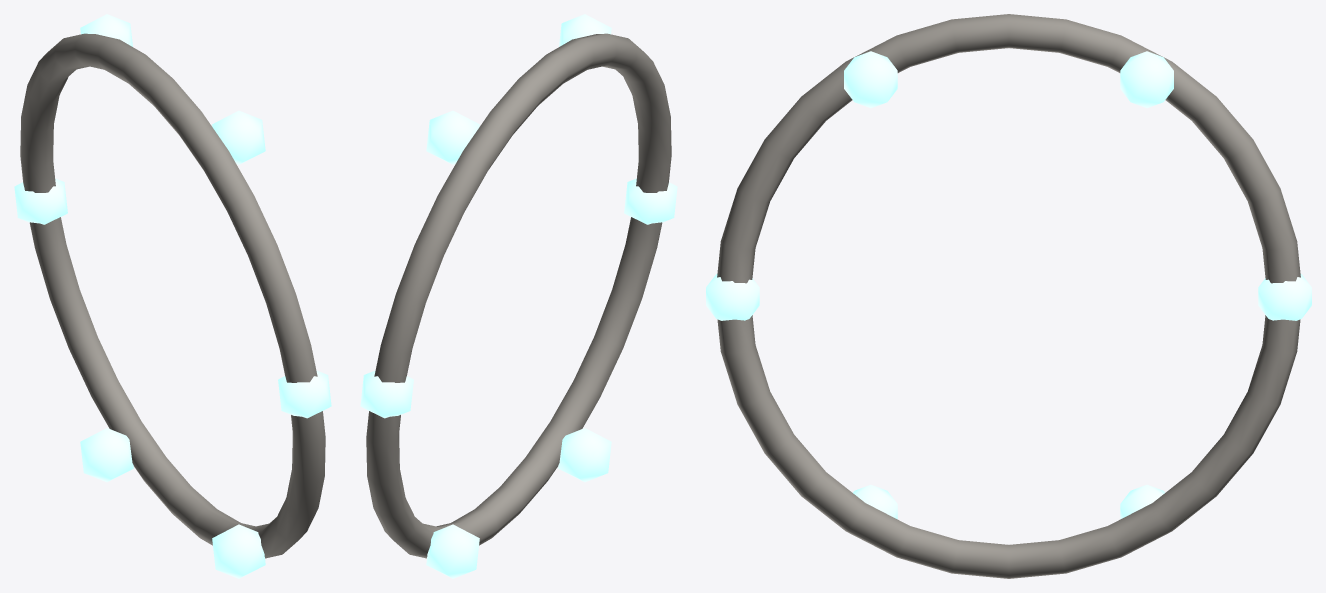
File: SM_Head_ChronoHalo.fbx
The picture shows the model from 3 angles, left to right: view 1: azimuth 30°, elevation 25°; view 2: azimuth 150°, elevation 25°; view 3: azimuth 270°, elevation 25°; orthographic projection. The views are drawn at different scales.
Visible parts, largest first — view 1: Torus; view 2: Torus; view 3: Torus.
Part boxes in pixels (left/top/right/bottom): Torus: left=14, top=14, right=331, bottom=578; Torus: left=360, top=14, right=677, bottom=578; Torus: left=706, top=14, right=1311, bottom=578.
Bounding box in the file's own units: 0.6144 × 0.1232 × 0.5887.
